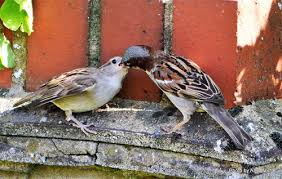hsparrow: (120, 38, 249, 153), (10, 54, 128, 138)
